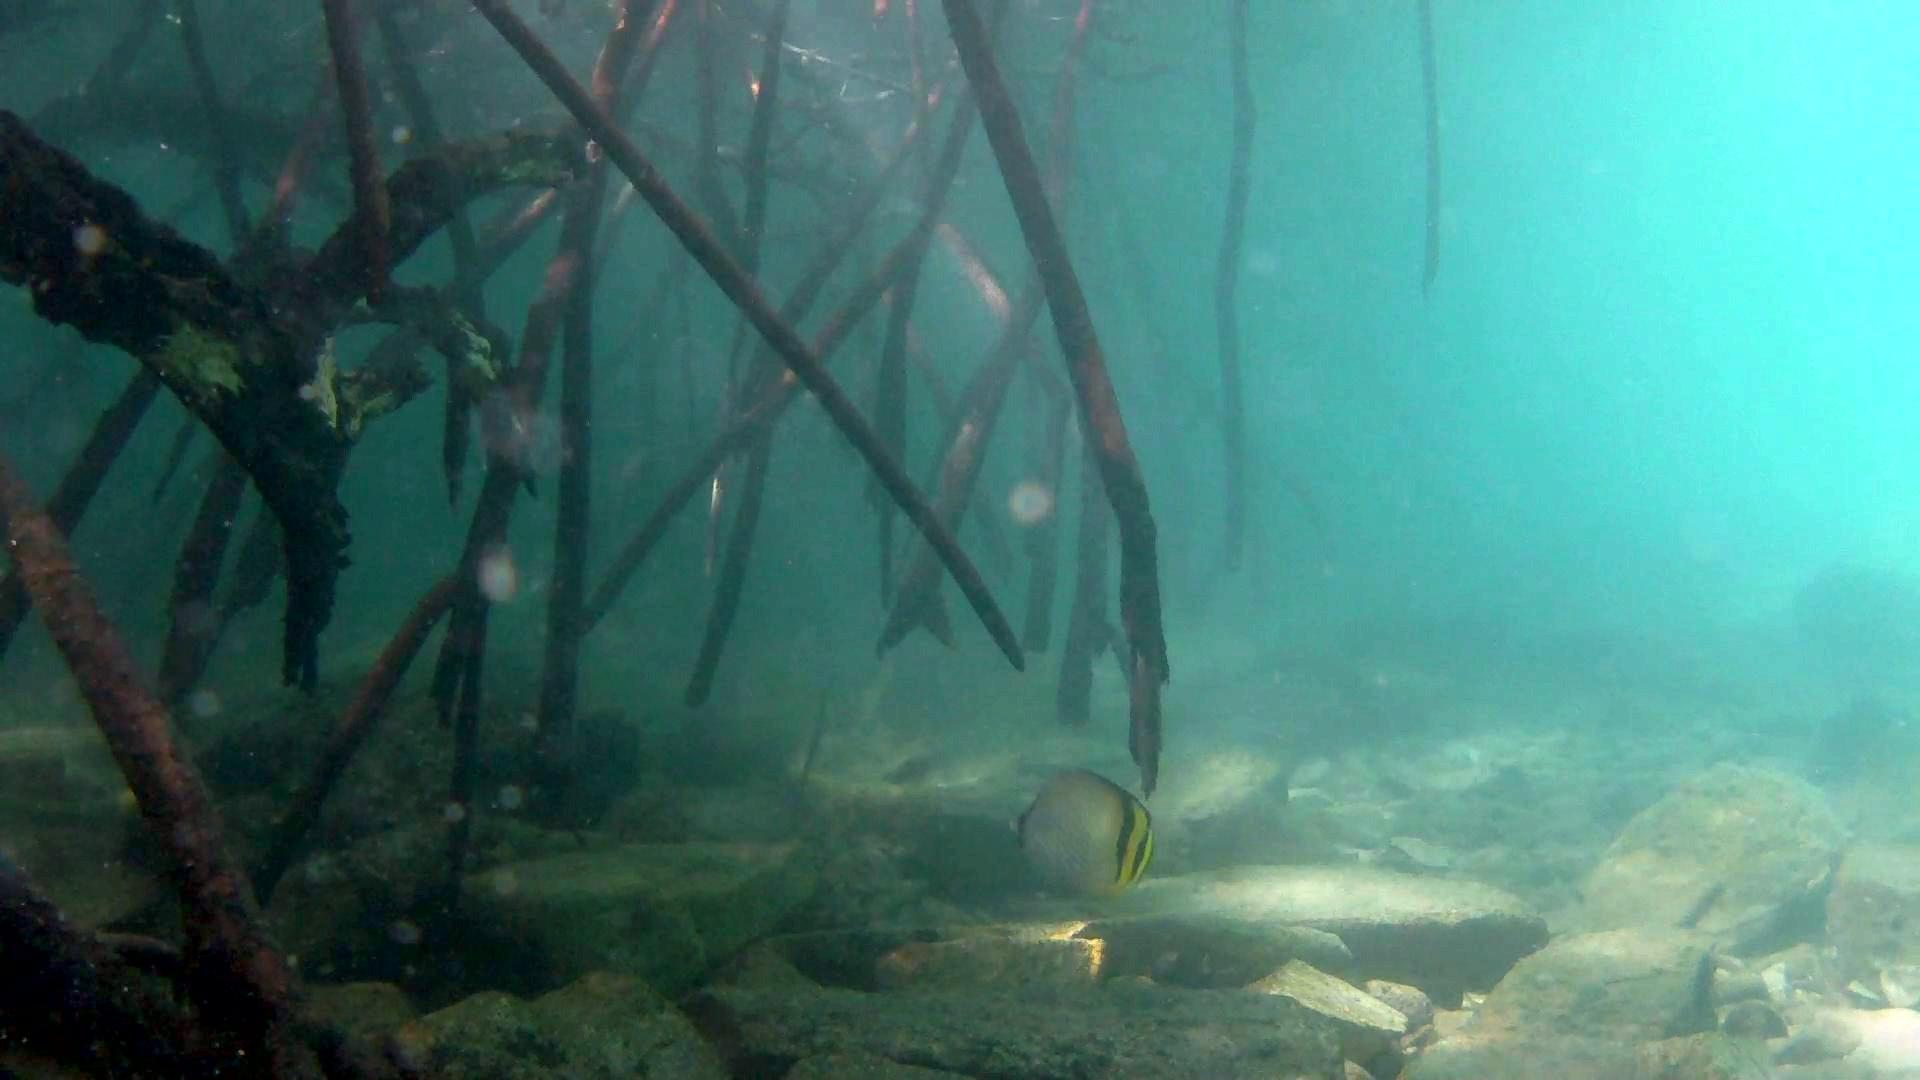chaetodon vagabundus: (1006, 766, 1155, 898)
